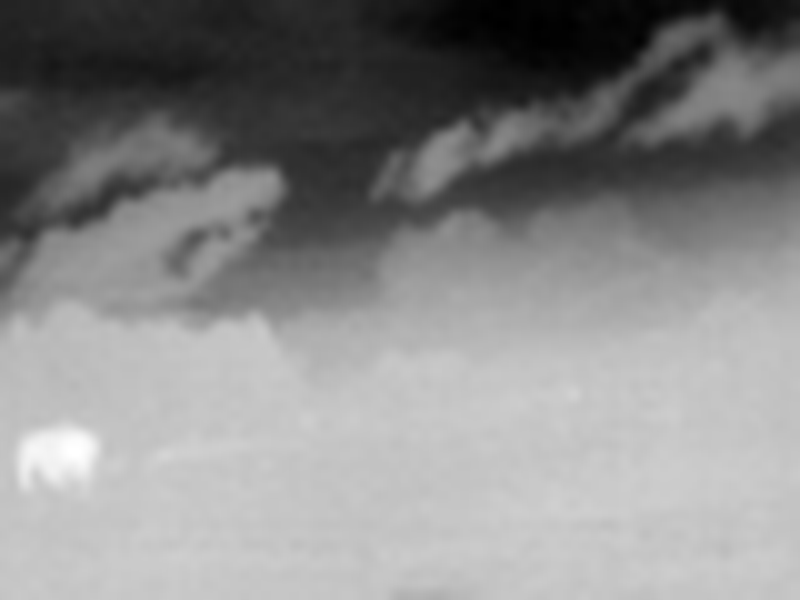elephant: (11, 414, 91, 494)
